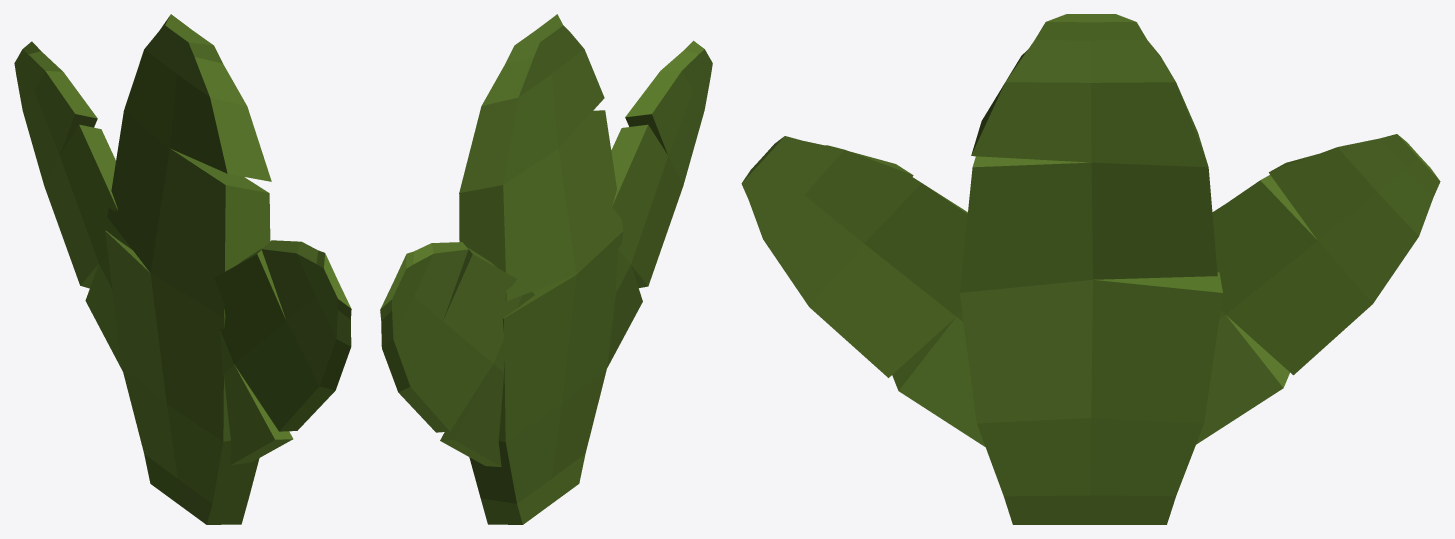
The model's file is bitki2.fbx.
The picture shows the model from 3 angles, left to right: view 1: azimuth 30°, elevation 25°; view 2: azimuth 150°, elevation 25°; view 3: azimuth 270°, elevation 25°; orthographic projection. The views are drawn at different scales.
Visible parts, largest first — view 1: bitki2; view 2: bitki2; view 3: bitki2.
Boxes of the visible parts, bbox=[...] form: bitki2: bbox=[14, 14, 351, 524]; bitki2: bbox=[380, 14, 712, 524]; bitki2: bbox=[741, 14, 1440, 524].
Bounding box in the file's own units: 10.14 × 71.56 × 91.26.
